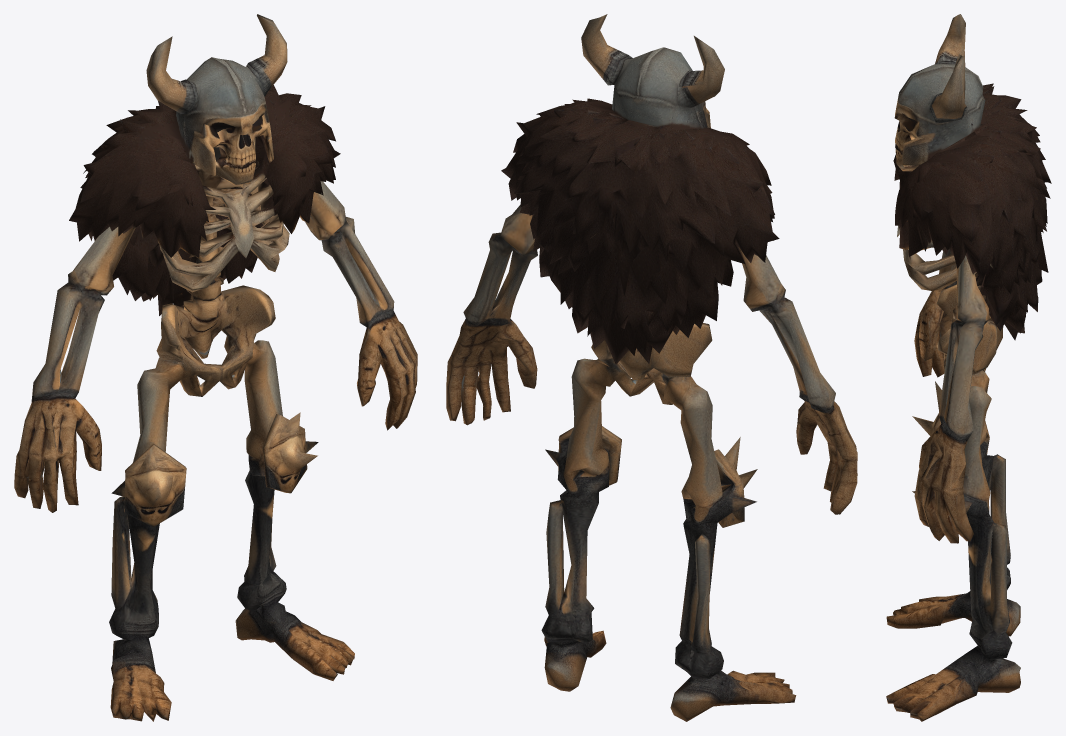
The model's file is MWT_SK_Horned.glb.
3 views of the same model, side by side, from view 1: azimuth 30°, elevation 25°; view 2: azimuth 150°, elevation 25°; view 3: azimuth 270°, elevation 25° (orthographic). The views are drawn at different scales.
Size of the model in its own units: 1.3 by 2 by 0.4761.
1 material, 1 textured.
